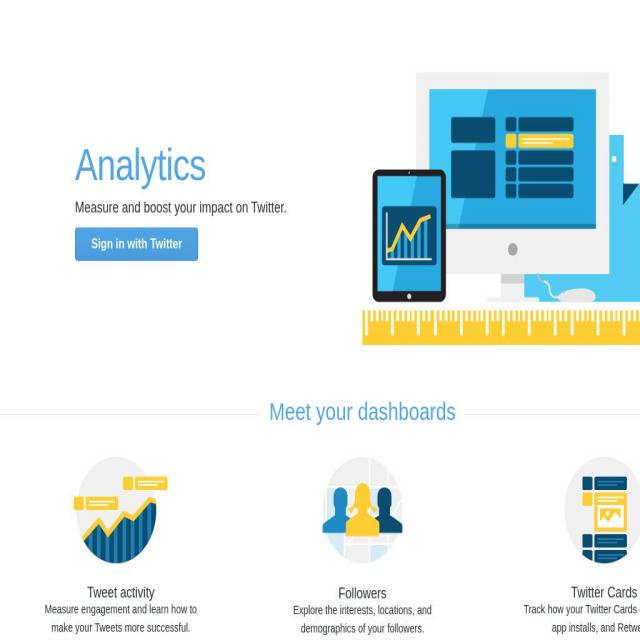login-option: (68, 218, 208, 274)
